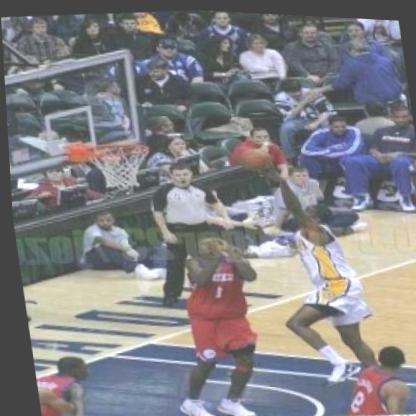basketball: (234, 137, 275, 175)
